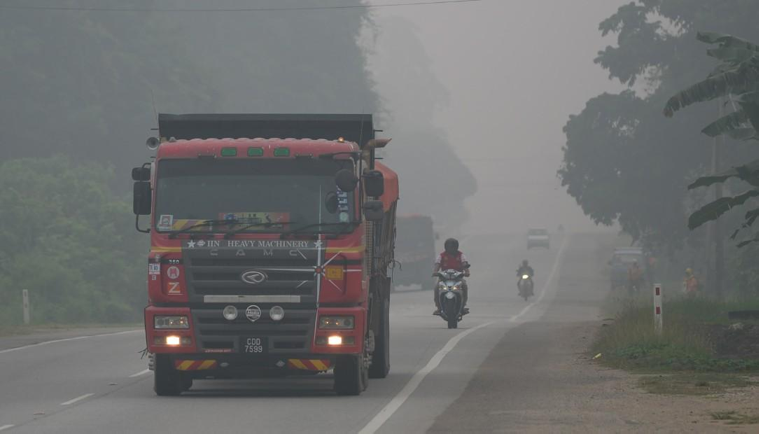airplane: (515, 261, 535, 299)
backpack: (662, 32, 756, 119), (697, 31, 758, 96), (432, 247, 469, 311), (437, 242, 462, 272), (516, 265, 534, 296), (516, 259, 534, 282), (446, 253, 467, 271)
bench: (515, 269, 534, 301)
bicycle: (663, 32, 757, 121), (703, 49, 758, 136), (702, 101, 756, 141), (515, 269, 534, 301)
bird: (654, 21, 759, 136), (687, 159, 754, 233)
boat: (607, 247, 653, 294)
bus: (131, 129, 385, 392), (340, 142, 402, 366), (357, 145, 398, 285), (595, 245, 659, 307), (607, 248, 651, 292), (526, 228, 549, 251)
car: (128, 123, 398, 388), (304, 149, 375, 391), (663, 32, 757, 121), (607, 248, 651, 292), (700, 113, 755, 140), (512, 228, 549, 255), (607, 247, 644, 272), (515, 265, 534, 300), (526, 229, 549, 250), (516, 259, 534, 282)
chair: (515, 259, 534, 296), (517, 272, 535, 301)
dog: (517, 273, 534, 302)
fire hydrant: (608, 248, 655, 314), (515, 259, 534, 296), (517, 273, 534, 302)
handbag: (516, 265, 534, 296)
horse: (515, 269, 534, 301)
kite: (660, 27, 758, 306), (654, 21, 759, 136), (701, 113, 754, 140)
motorcycle: (677, 48, 756, 233), (667, 33, 755, 124), (665, 70, 749, 141), (704, 43, 758, 139), (441, 250, 510, 317), (694, 31, 757, 98), (432, 238, 470, 310), (701, 93, 757, 140), (431, 265, 470, 329), (719, 74, 758, 137), (444, 259, 477, 321), (511, 261, 543, 303), (713, 112, 755, 140), (430, 272, 455, 318), (432, 267, 464, 301), (433, 279, 468, 310), (430, 258, 463, 290), (453, 278, 471, 325), (515, 259, 534, 296), (433, 270, 463, 287), (517, 273, 534, 302), (515, 264, 535, 282), (514, 271, 533, 289)
parking meter: (361, 161, 397, 288), (653, 285, 663, 319)
person: (659, 27, 758, 257), (640, 13, 746, 162), (660, 32, 756, 120), (686, 117, 757, 233), (683, 48, 756, 154), (694, 31, 757, 98), (706, 59, 750, 132), (416, 229, 464, 295), (431, 238, 471, 309), (700, 87, 754, 139), (433, 262, 468, 326), (433, 238, 468, 276), (214, 212, 266, 237), (713, 112, 755, 140), (453, 261, 472, 319), (431, 252, 465, 283), (447, 242, 472, 278), (430, 245, 450, 283), (515, 260, 534, 297), (435, 248, 463, 271), (438, 238, 461, 265), (517, 273, 534, 302), (512, 259, 528, 289), (682, 267, 697, 295), (445, 238, 465, 259), (265, 213, 291, 227), (514, 271, 533, 289), (456, 250, 470, 274), (223, 214, 238, 236), (516, 260, 534, 278)
skateboard: (667, 33, 755, 124), (703, 54, 758, 139), (679, 79, 759, 131), (713, 93, 757, 137), (701, 108, 755, 140)
skis: (659, 33, 756, 121), (678, 52, 759, 153), (662, 73, 755, 125), (699, 93, 757, 140), (664, 95, 735, 130), (666, 87, 726, 118), (690, 89, 746, 121), (701, 112, 751, 139)
snowboard: (660, 42, 755, 126), (701, 45, 756, 139), (679, 79, 759, 131), (664, 74, 740, 116), (701, 109, 755, 140), (701, 114, 736, 137)
suitcase: (515, 260, 535, 297), (517, 273, 534, 302)
surfboard: (701, 112, 755, 139)
traffic light: (664, 28, 759, 312), (356, 144, 399, 260), (362, 163, 395, 220), (375, 161, 400, 213), (361, 170, 384, 211)
train: (600, 238, 660, 314), (607, 247, 654, 295)
truck: (131, 127, 392, 391), (312, 145, 393, 392), (350, 146, 400, 344), (587, 239, 659, 301), (396, 214, 435, 284), (607, 247, 652, 293), (617, 260, 647, 295), (607, 247, 644, 272), (515, 262, 535, 300), (527, 228, 549, 251)
